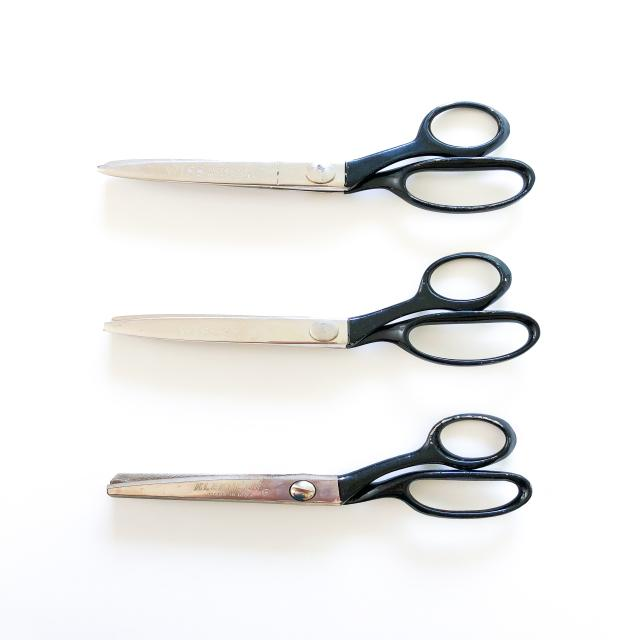Metal: (89, 156, 347, 206), (100, 311, 356, 353), (111, 471, 345, 512)
